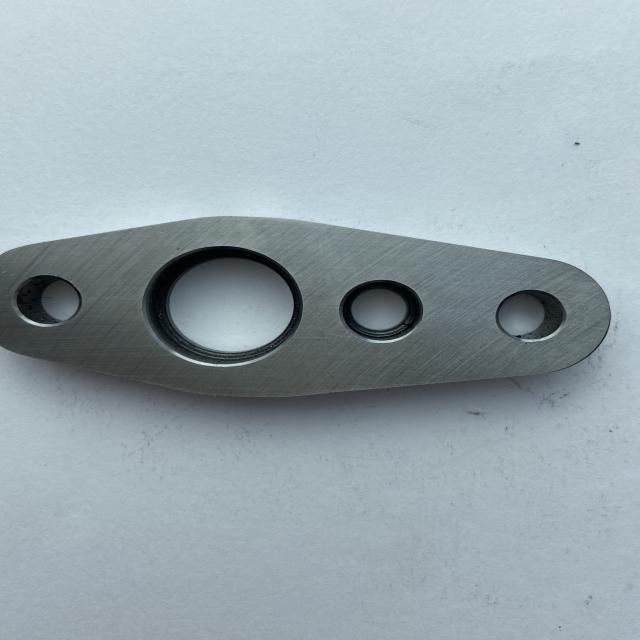chap: (1, 270, 18, 277)
lines: (324, 368, 336, 381), (322, 383, 333, 392), (318, 329, 326, 340)
